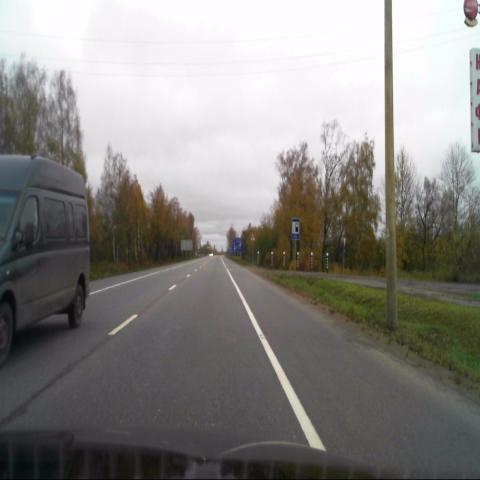7_3: (291, 218, 300, 240)
